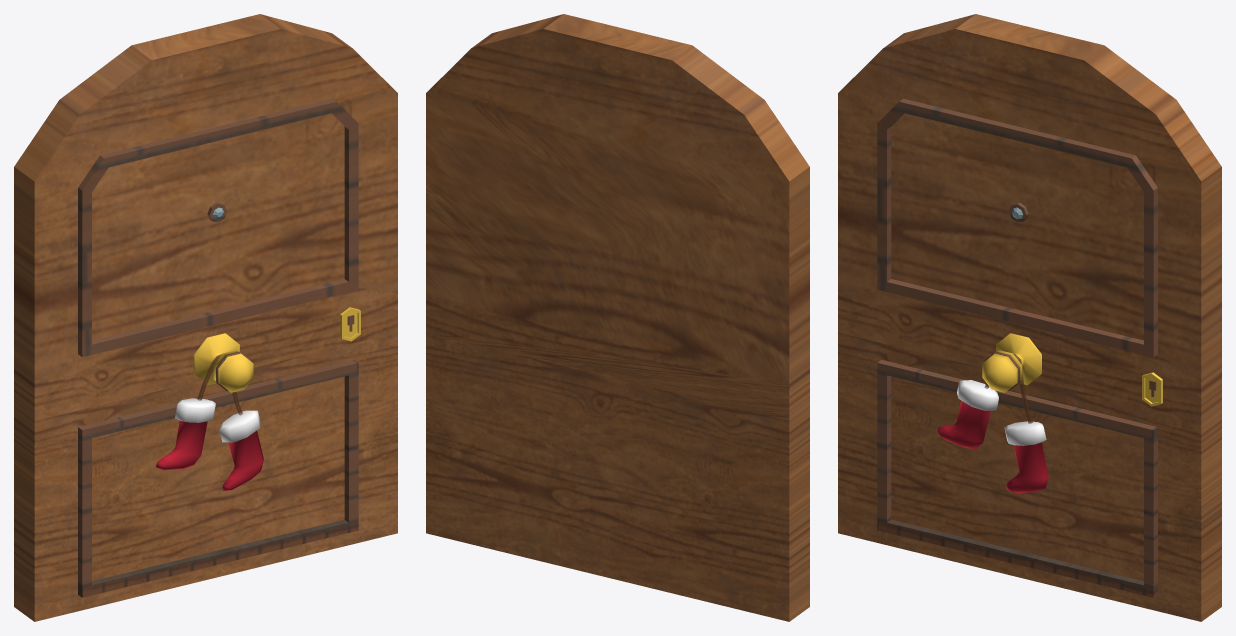
The model's file is Door.glb.
The picture shows the model from 3 angles, left to right: view 1: azimuth 30°, elevation 25°; view 2: azimuth 150°, elevation 25°; view 3: azimuth 330°, elevation 25°; orthographic projection.
Visible parts, largest first — view 1: Door, SockXmas_Art__1_.001; view 2: Door; view 3: Door, SockXmas_Art__1_.001.
Boxes of the visible parts, box(x1,y1,x2,y2) form: Door: box(14, 14, 397, 621); SockXmas_Art__1_.001: box(156, 354, 263, 491); Door: box(426, 14, 809, 621); Door: box(838, 14, 1221, 621); SockXmas_Art__1_.001: box(937, 354, 1048, 492).
Size of the model in its own units: 4.33 by 6.08 by 0.9684.
3 materials, 3 textured.
